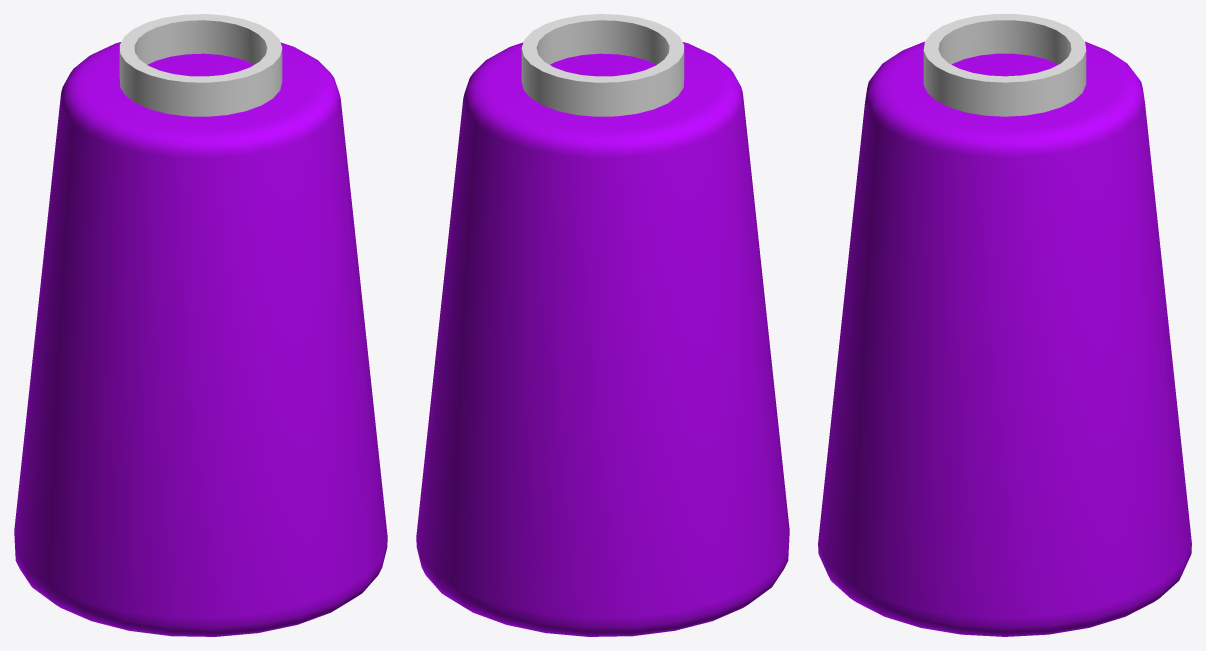
File: Bobina 1.fbx
3 views of the same model, side by side, from view 1: azimuth 30°, elevation 25°; view 2: azimuth 150°, elevation 25°; view 3: azimuth 270°, elevation 25° (orthographic).
Visible parts, largest first — view 1: Cylinder002, Cylinder001; view 2: Cylinder002, Cylinder001; view 3: Cylinder002, Cylinder001.
Part boxes in pixels (<box>): Cylinder002: <box>14,42,387,636</box>; Cylinder001: <box>119,14,282,116</box>; Cylinder002: <box>416,42,789,636</box>; Cylinder001: <box>521,14,684,116</box>; Cylinder002: <box>818,41,1191,636</box>; Cylinder001: <box>923,14,1086,116</box>.
Bounding box in the file's own units: 28.33 × 28.39 × 43.5.
